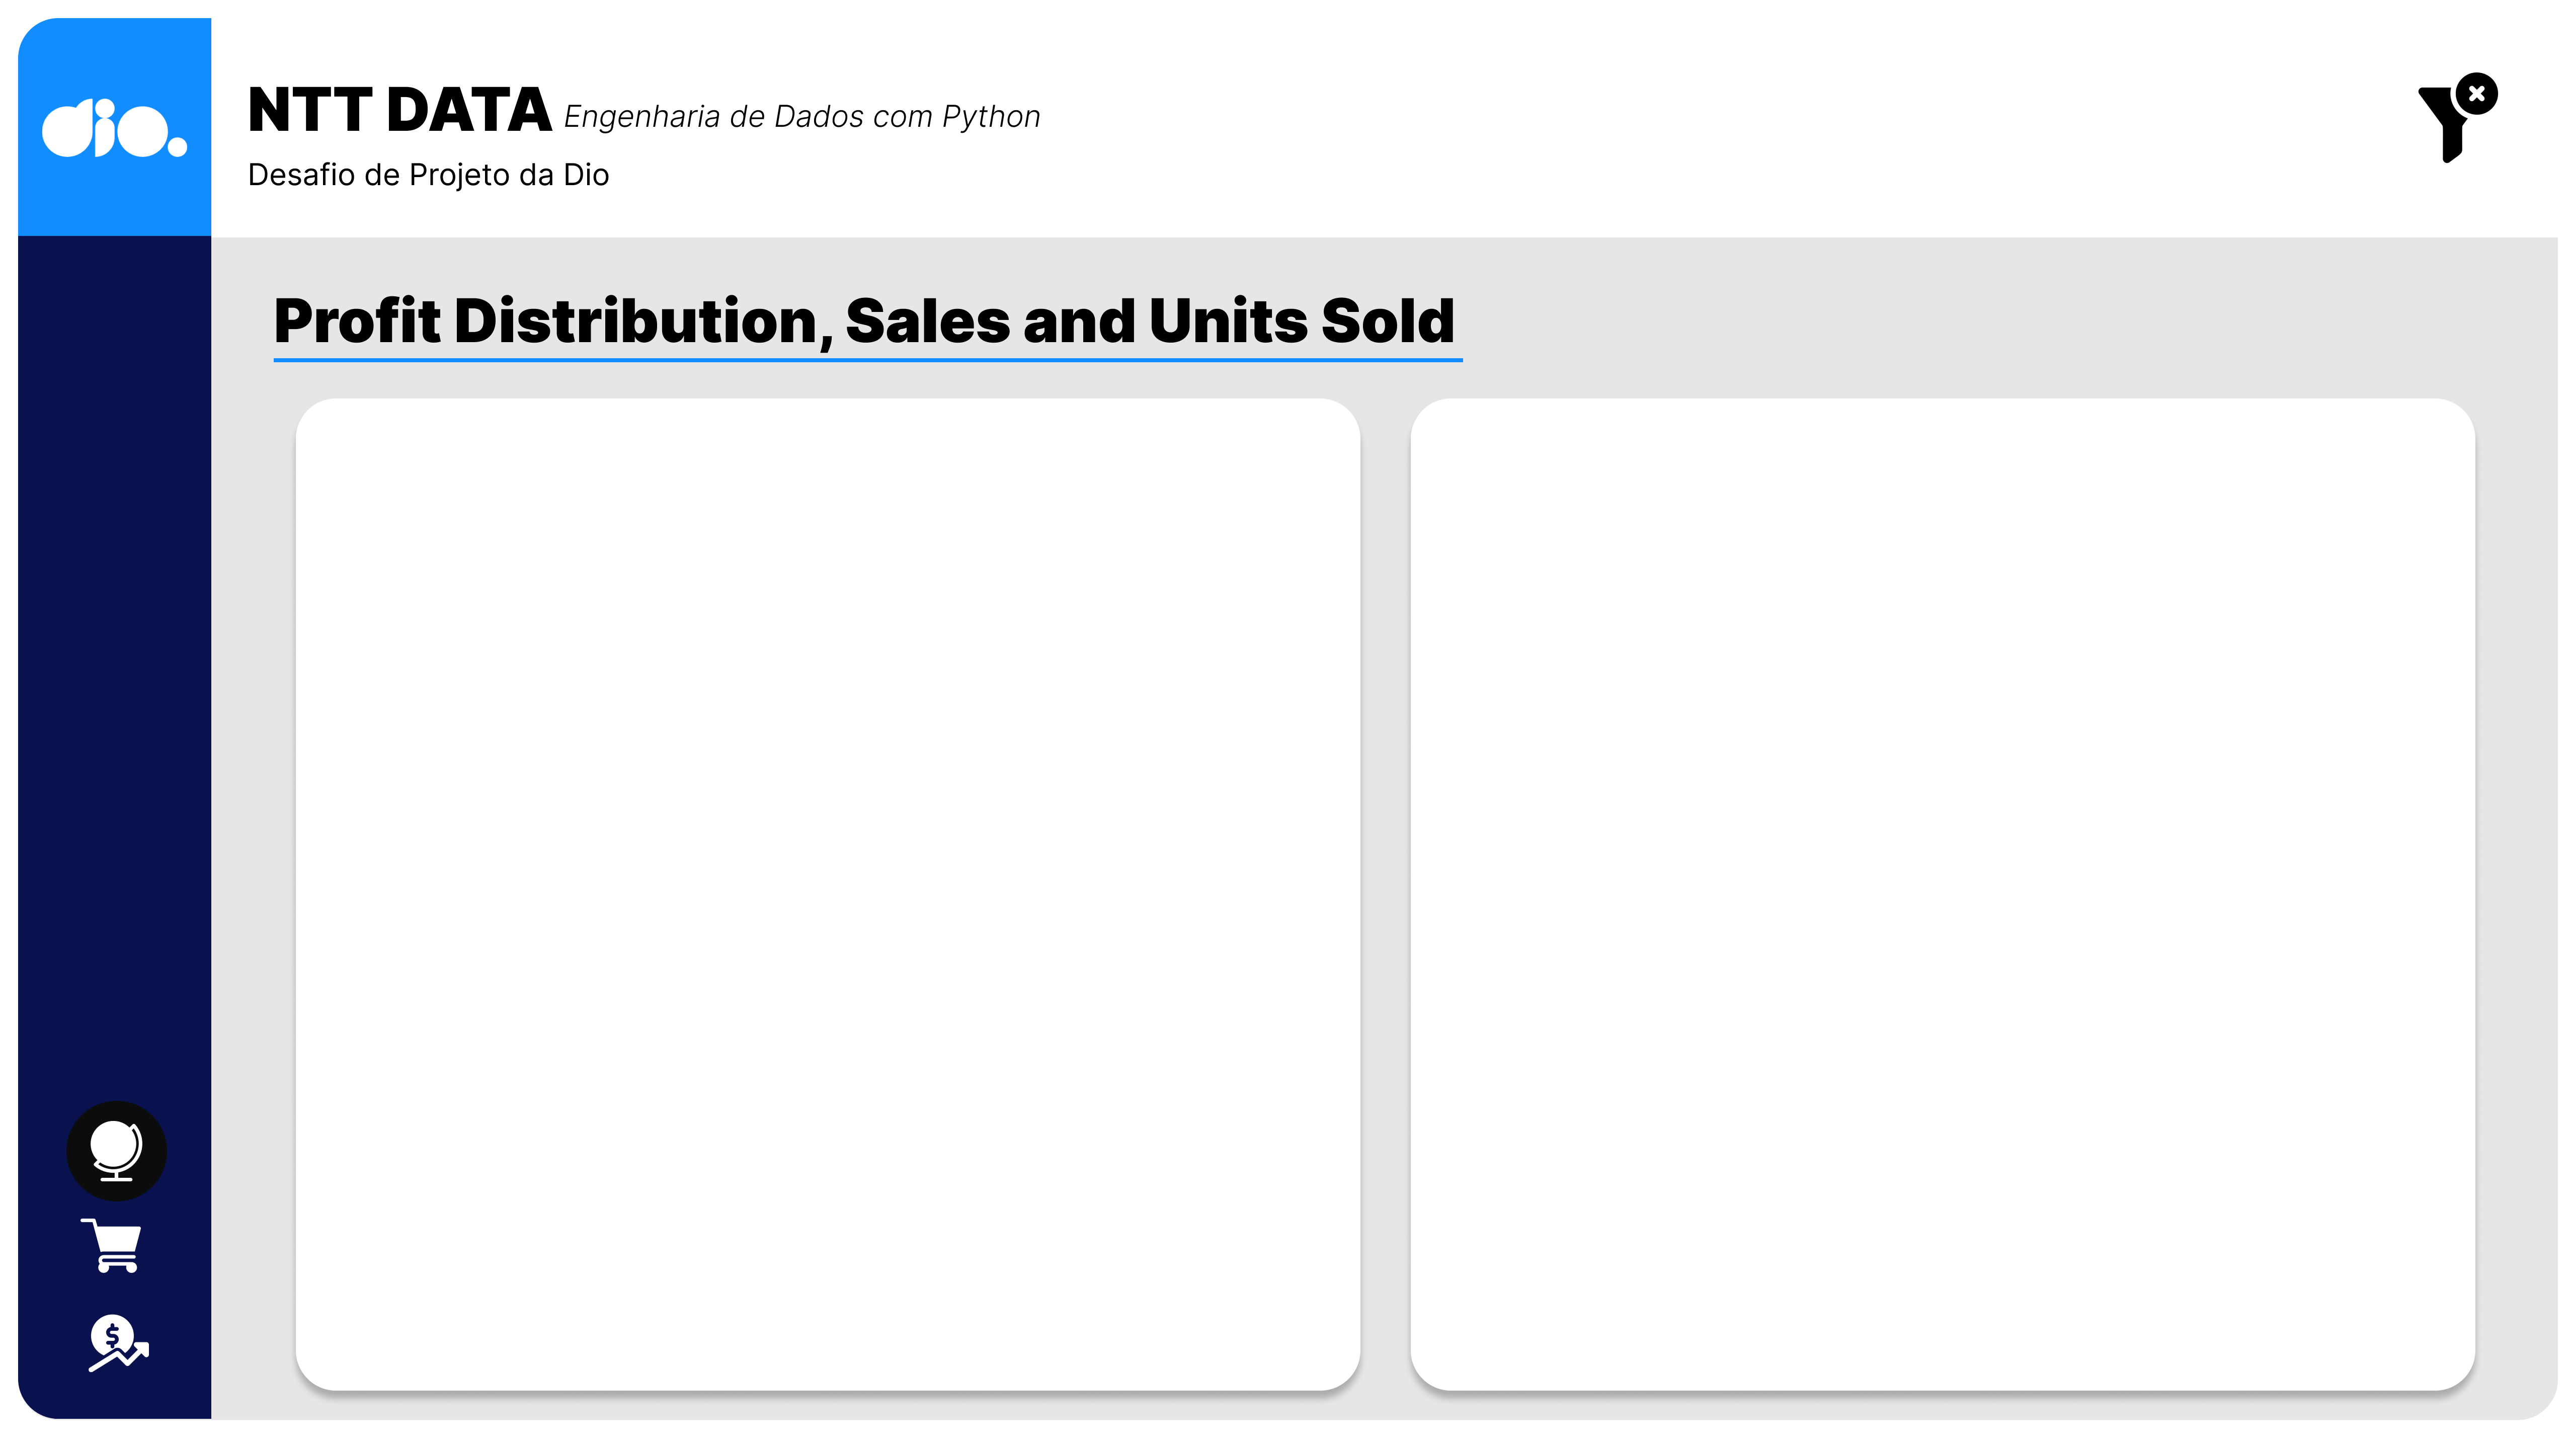

The dashboard page shown, as its layout file describes it:
{"tool":"powerbi","page":{"name":"Page 3","canvas":[1280,720],"ordinal":2},"visuals":[{"type":"pieChart","title":"Total de Lucro x Segmento","fields":{"Category":["financials.Segment"],"Y":["Sum(financials.Profit)"]},"box":[150.3,200.4,523.6,478.4],"z":0},{"type":"map","title":"Vendas e Unidades Vendidas x País","fields":{"Size":["Sum(financials. Sales)"],"Category":["financials.Country"]},"box":[706,200.2,524.2,247.6],"z":1000},{"type":"map","title":"Vendas e Unidades Vendidas x País","fields":{"Category":["financials.Country"],"Size":["Sum(financials.Profit)"]},"box":[706,447.8,523.3,231.8],"z":1001},{"type":"image","box":[35.1,597.1,43.9,44.8],"z":1002},{"type":"image","box":[35.1,641.9,43.9,44.8],"z":1003},{"type":"image","box":[1197.5,35.4,44.2,44.2],"z":1004}]}

Visuals, with their boxes on the page's 1280x720 design canvas (x1, y1, x2, y2). These are canvas units, not pixel positions in the 2576x1449 screenshot, which may show the page scaled, cropped or inside an application window:
"Total de Lucro x Segmento" pieChart: 150/200/674/679
"Vendas e Unidades Vendidas x País" map: 706/200/1230/448
"Vendas e Unidades Vendidas x País" map: 706/448/1229/680
image: 35/597/79/642
image: 35/642/79/687
image: 1198/35/1242/80
